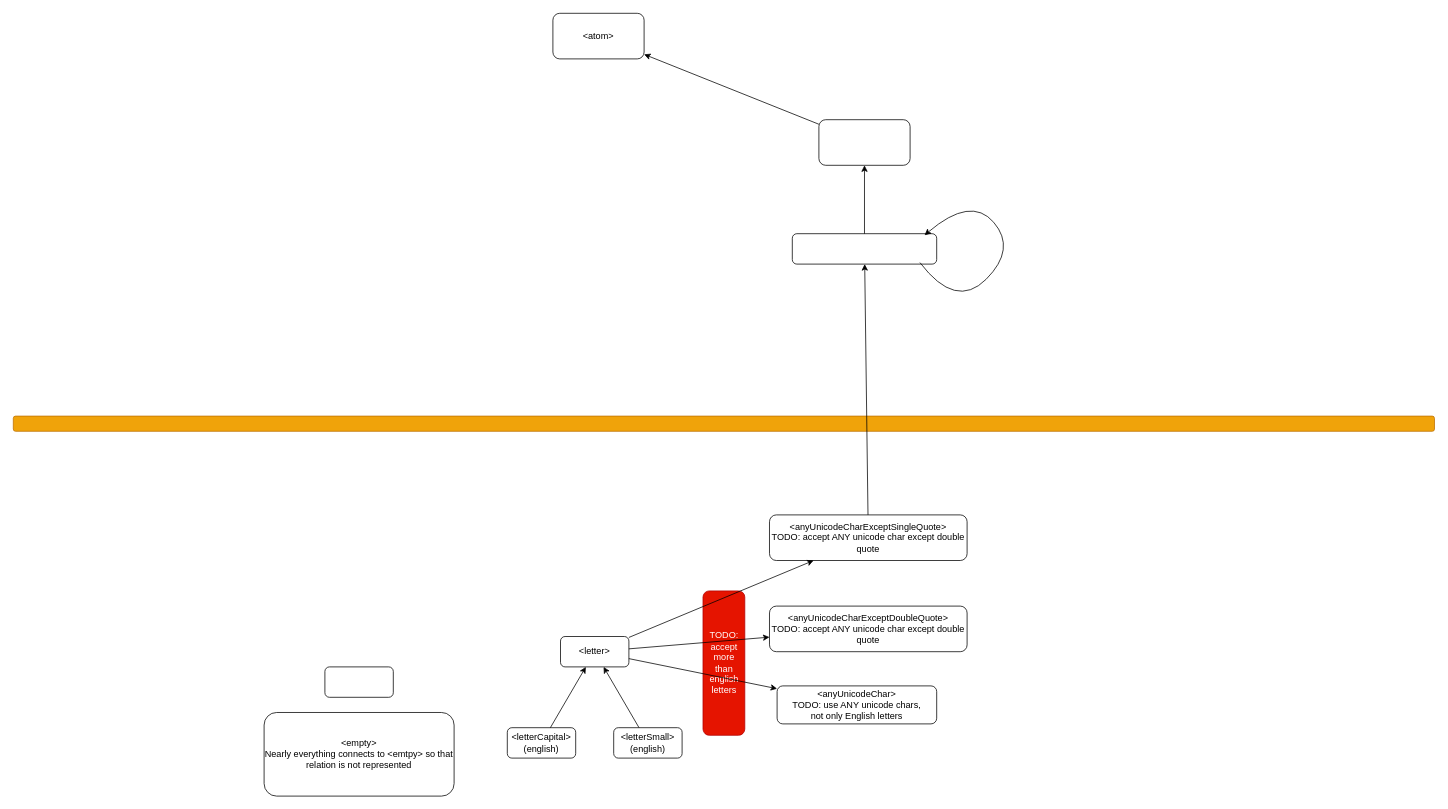
Some shapes in this 1448 by 809 pixel diagram are drawn without their labels. The centre of each missing label's shape, as x and y in pixels:
"<atomCharList_inQuotes" belongs at [864,248].
"<atomInQuotes>" belongs at [864,142].
"<digit>" belongs at [358,681].
"BASIC SYMBOLS" belongs at [723,423].
